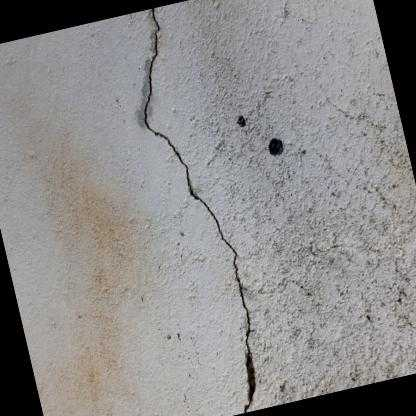crack: (143, 7, 254, 413)
